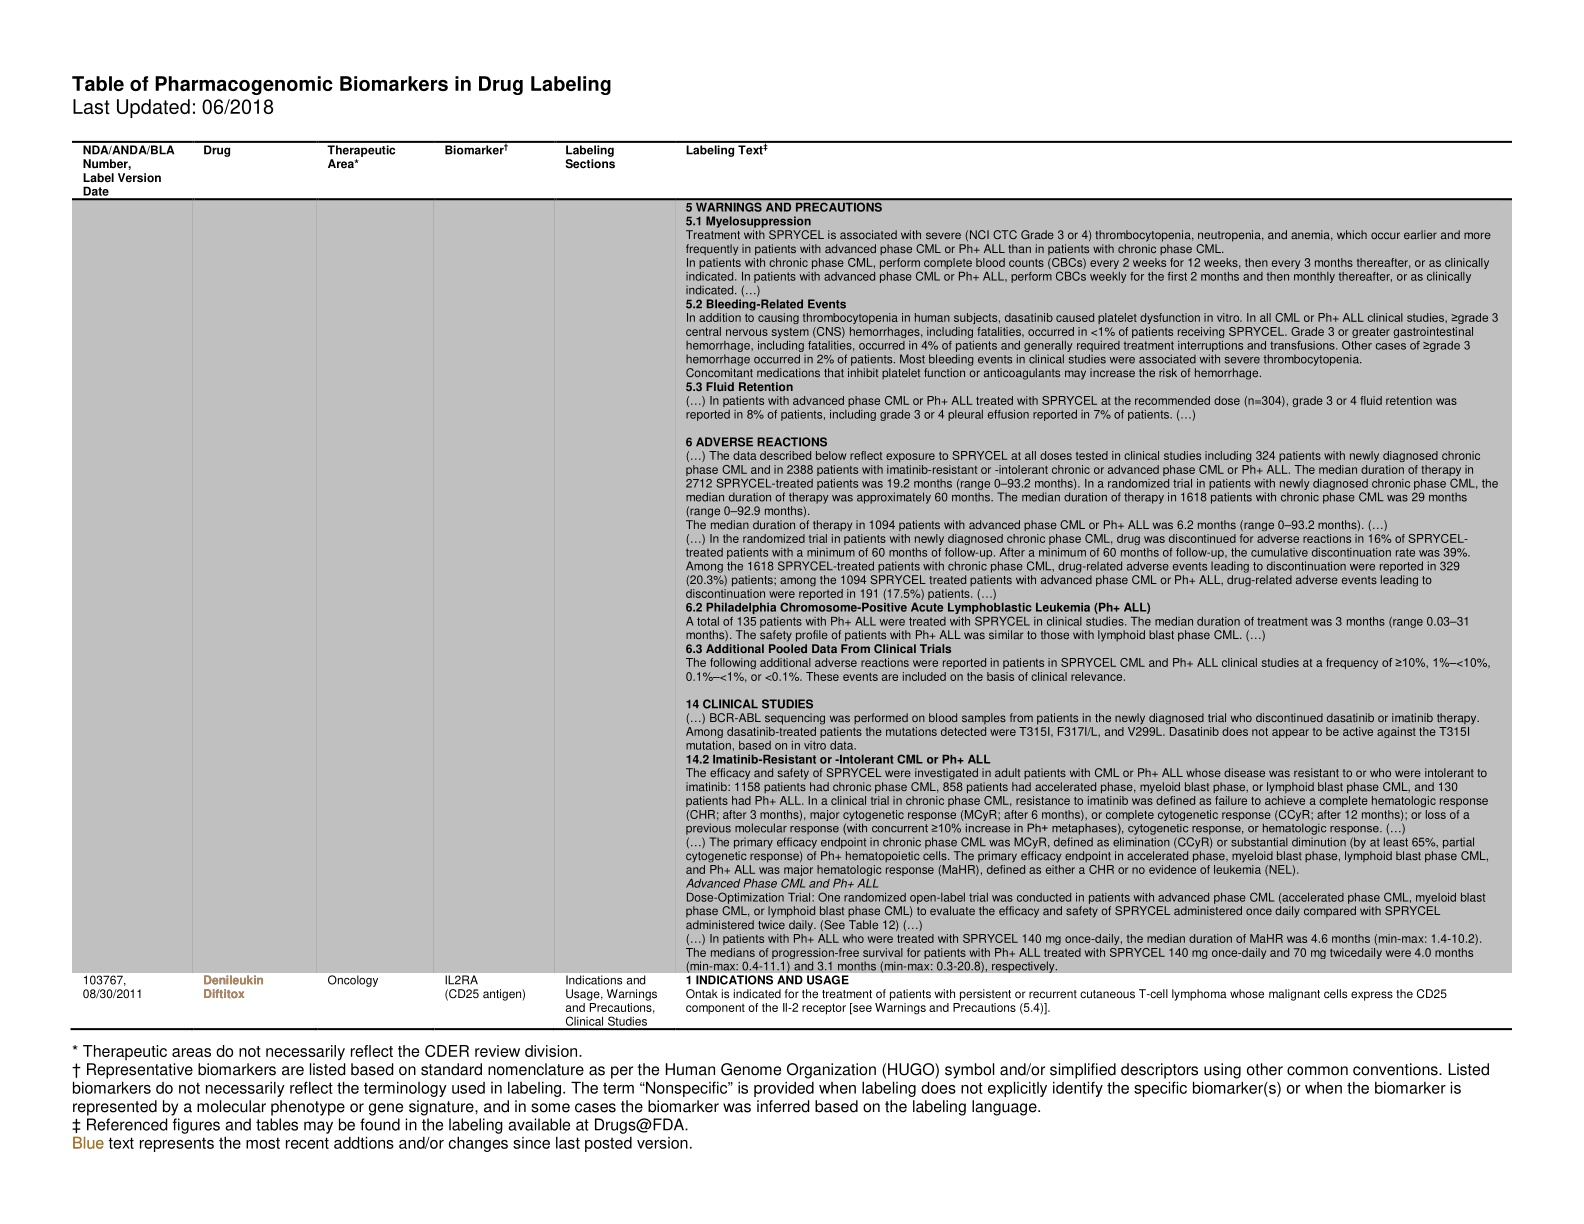partial_lined_merged_cells: (72, 140, 1515, 1032)
